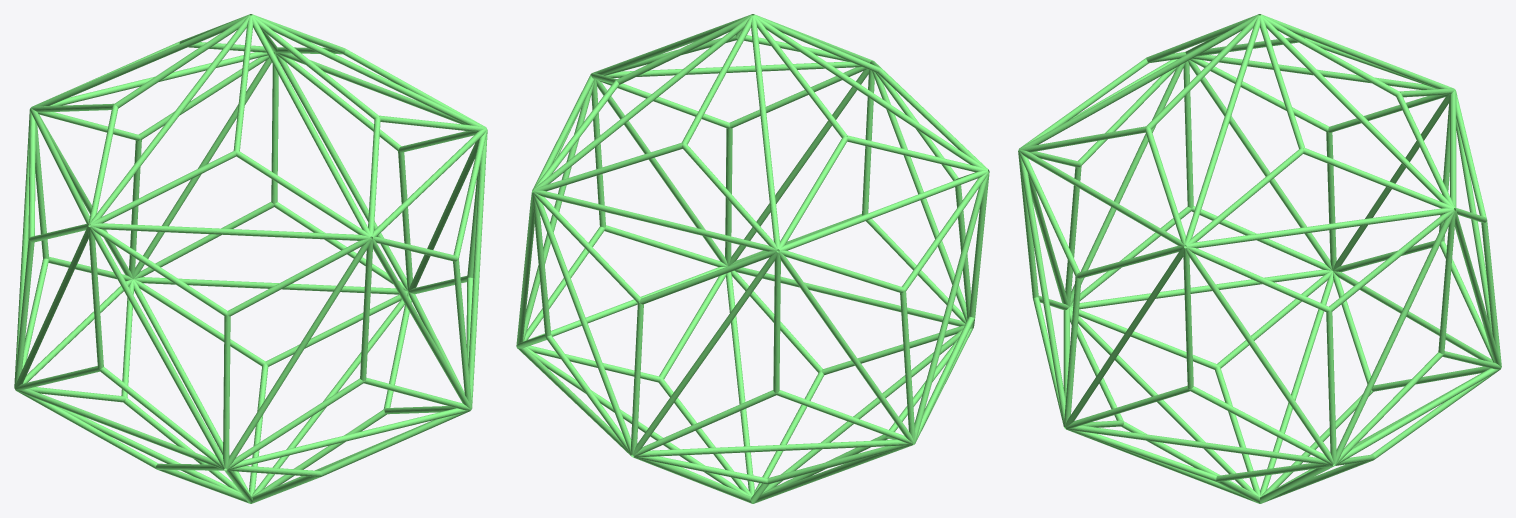
The model's file is TriakisIcosahedron2.glb.
The picture shows the model from 3 angles, left to right: view 1: azimuth 30°, elevation 25°; view 2: azimuth 150°, elevation 25°; view 3: azimuth 270°, elevation 25°; orthographic projection.
Bounding box in the file's own units: 8.31 × 9.73 × 8.73.
